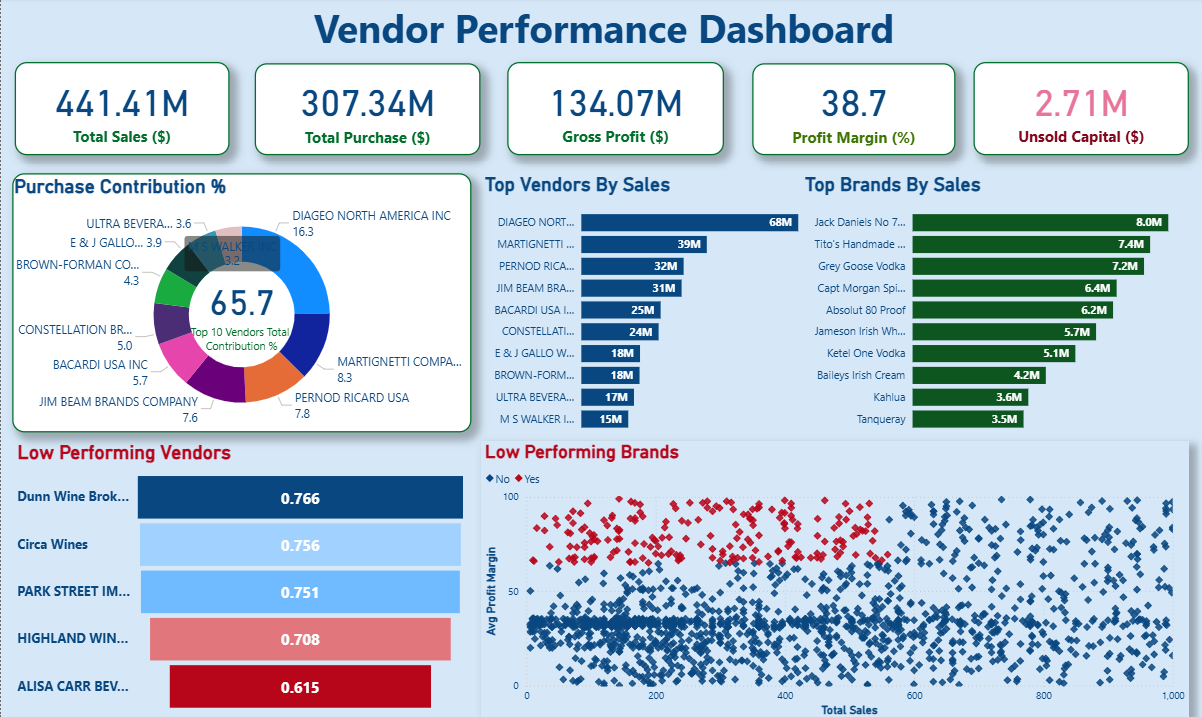

The dashboard page shown, as its layout file describes it:
{"tool":"powerbi","page":{"name":"Page 1","canvas":[1500,900],"ordinal":0},"visuals":[{"type":"card","fields":{"Values":["Sum(vendor_sales_summary.TotalPurchaseDollars)"]},"box":[315.8,82.4,280.9,114.6],"z":0},{"type":"card","fields":{"Values":["Sum(vendor_sales_summary.TotalSalesDollars)"]},"box":[16.8,81,266.9,116],"z":1000},{"type":"card","fields":{"Values":["Sum(vendor_sales_summary.GrossProfit)"]},"box":[630.2,81,269.7,116],"z":2000},{"type":"card","fields":{"Values":["Avg(vendor_sales_summary.ProfitMargin)"]},"box":[934.8,82.4,252.9,114.6],"z":3000},{"type":"card","fields":{"Values":["Sum(vendor_sales_summary.UnsoldCapital)"]},"box":[1210.1,81,268.3,116],"z":4000},{"type":"textbox","box":[0,0,1500,83],"z":5000},{"type":"donutChart","title":"Purchase Contribution % ","fields":{"Category":["PurchaseContribution.VendorName"],"Y":["Sum(PurchaseContribution.PurchaseContribution%)"]},"box":[14.5,219.4,571,322.6],"z":6000},{"type":"card","fields":{"Values":["Sum(PurchaseContribution.PurchaseContribution%)"]},"box":[205.3,267.5,188.1,234.8],"z":7000},{"type":"barChart","title":"Top Vendors By Sales","fields":{"Category":["vendor_sales_summary.VendorName"],"Y":["Sum(vendor_sales_summary.TotalSalesDollars)"]},"box":[597.3,219.2,447.9,332.9],"z":8000},{"type":"barChart","title":"Top Brands By Sales","fields":{"Category":["vendor_sales_summary.Description"],"Y":["Sum(vendor_sales_summary.TotalSalesDollars)"]},"box":[995.9,219.2,504.1,332.9],"z":9000},{"type":"funnel","title":"Low Performing Vendors","fields":{"Category":["LowTurnoverVendor.VendorName"],"Y":["Avg(LowTurnoverVendor.AvgStockTurnOver)"]},"box":[16.1,551.6,569.4,348.4],"z":10000},{"type":"scatterChart","title":"Low Performing Brands","fields":{"X":["Sum(BrandPerformance.TotalSales)"],"Y":["Sum(BrandPerformance.AvgProfitMargin)"],"Series":["BrandPerformance.TargetBrand"],"Category":["BrandPerformance.Description"]},"box":[596.8,551.6,880.6,348.4],"z":11000}]}

Visuals, with their boxes in screenshot pixels (x1, y1, x2, y2), scaled from the page's 1500x900 canvas onto the 1202x717 screenshot:
card - Sum(vendor_sales_summary.TotalPurchaseDollars): box(253, 66, 478, 157)
card - Sum(vendor_sales_summary.TotalSalesDollars): box(13, 65, 227, 157)
card - Sum(vendor_sales_summary.GrossProfit): box(505, 65, 721, 157)
card - Avg(vendor_sales_summary.ProfitMargin): box(749, 66, 952, 157)
card - Sum(vendor_sales_summary.UnsoldCapital): box(970, 65, 1185, 157)
textbox: box(0, 0, 1201, 66)
"Purchase Contribution % " donutChart: box(12, 175, 469, 432)
card - Sum(PurchaseContribution.PurchaseContribution%): box(165, 213, 315, 400)
"Top Vendors By Sales" barChart: box(479, 175, 838, 440)
"Top Brands By Sales" barChart: box(798, 175, 1201, 440)
"Low Performing Vendors" funnel: box(13, 439, 469, 716)
"Low Performing Brands" scatterChart: box(478, 439, 1184, 716)
